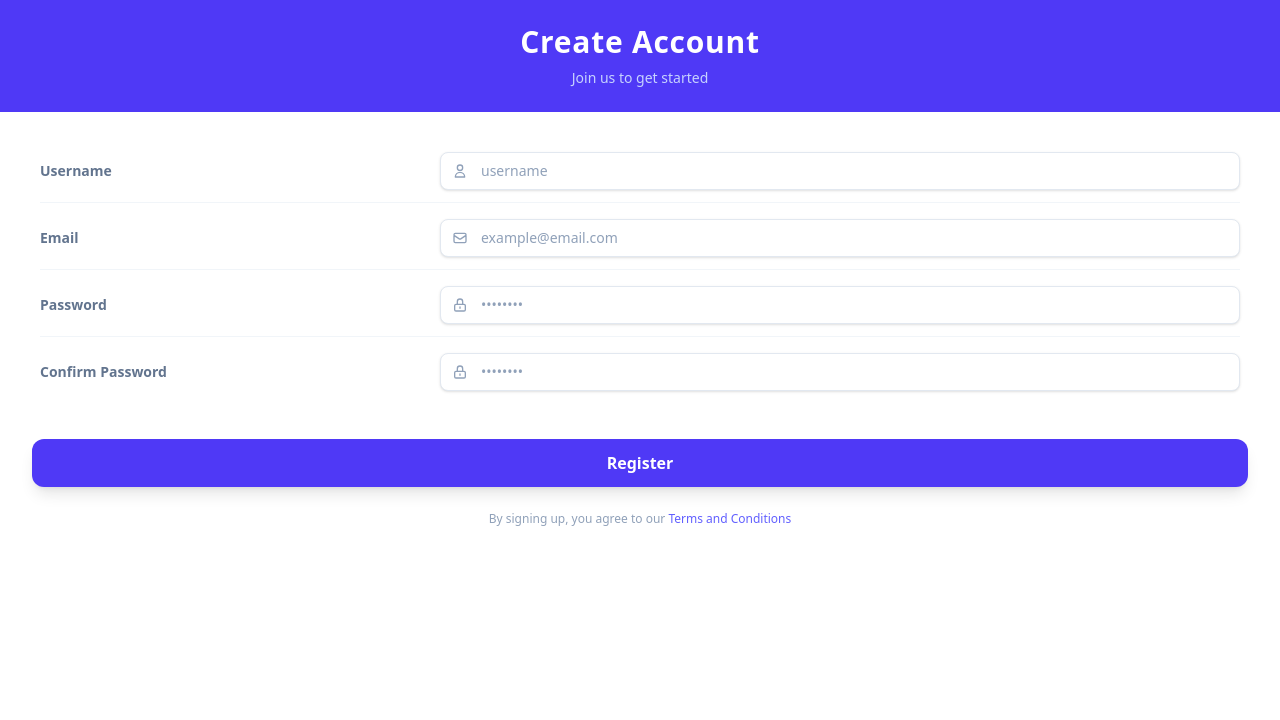
Test: RegisterPage Component › should show error if passwords do not match
This screenshot has width=1280, height=720.
In the field labelled "Username": (840, 171) [440,152,1240,190], type "usuario_test"
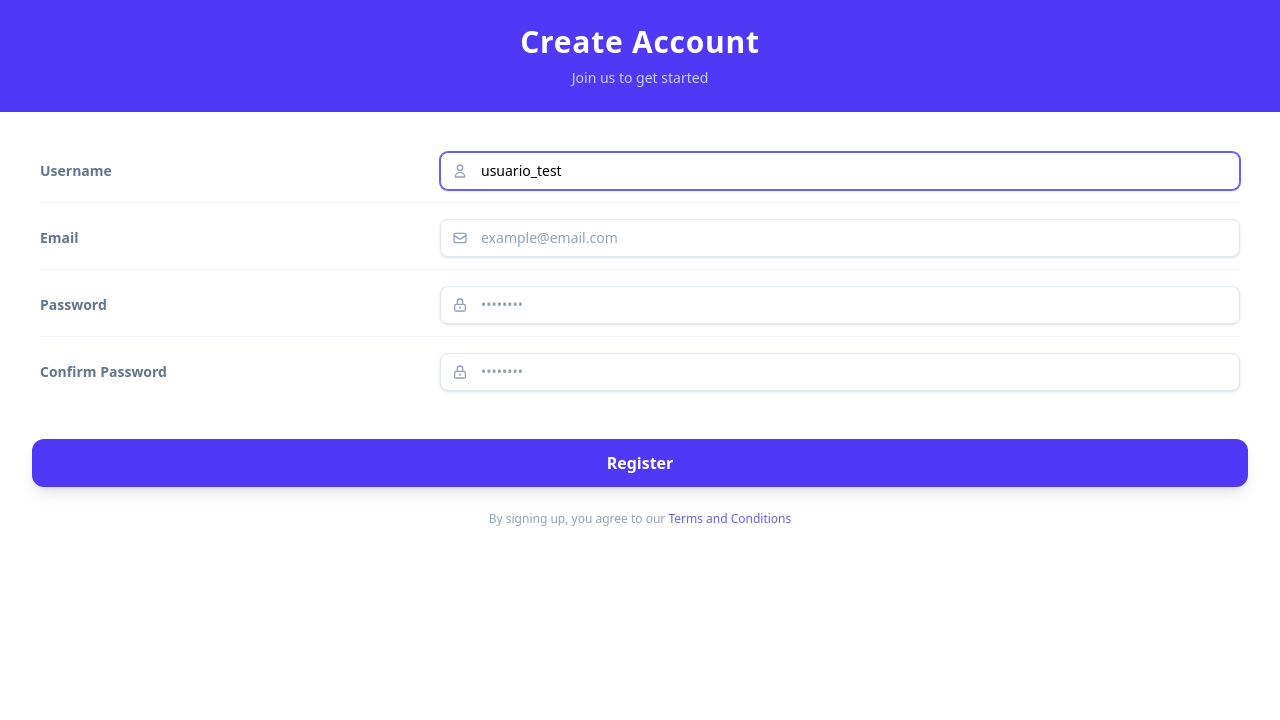
In the field labelled "Email": (840, 238) [440,219,1240,257], type "test@correo.com"
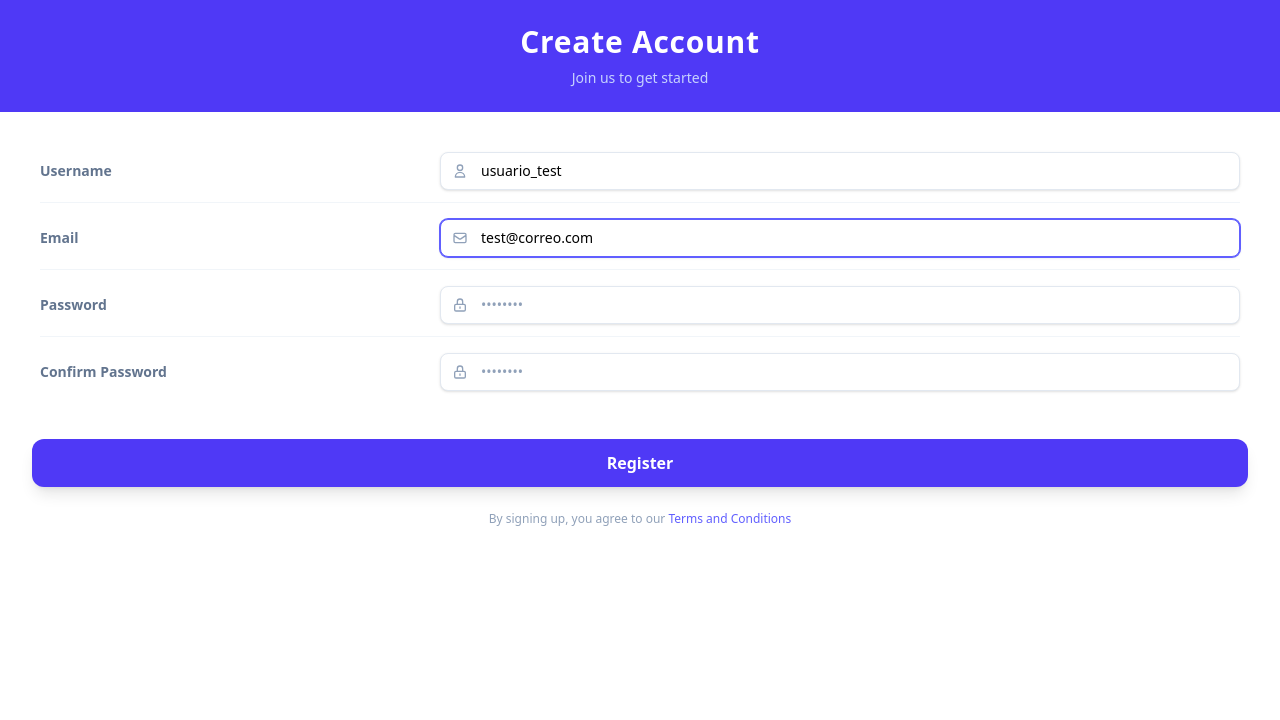
In the password field labelled "Password": (840, 305) [440,286,1240,324], type "PASSWORD_TEST"
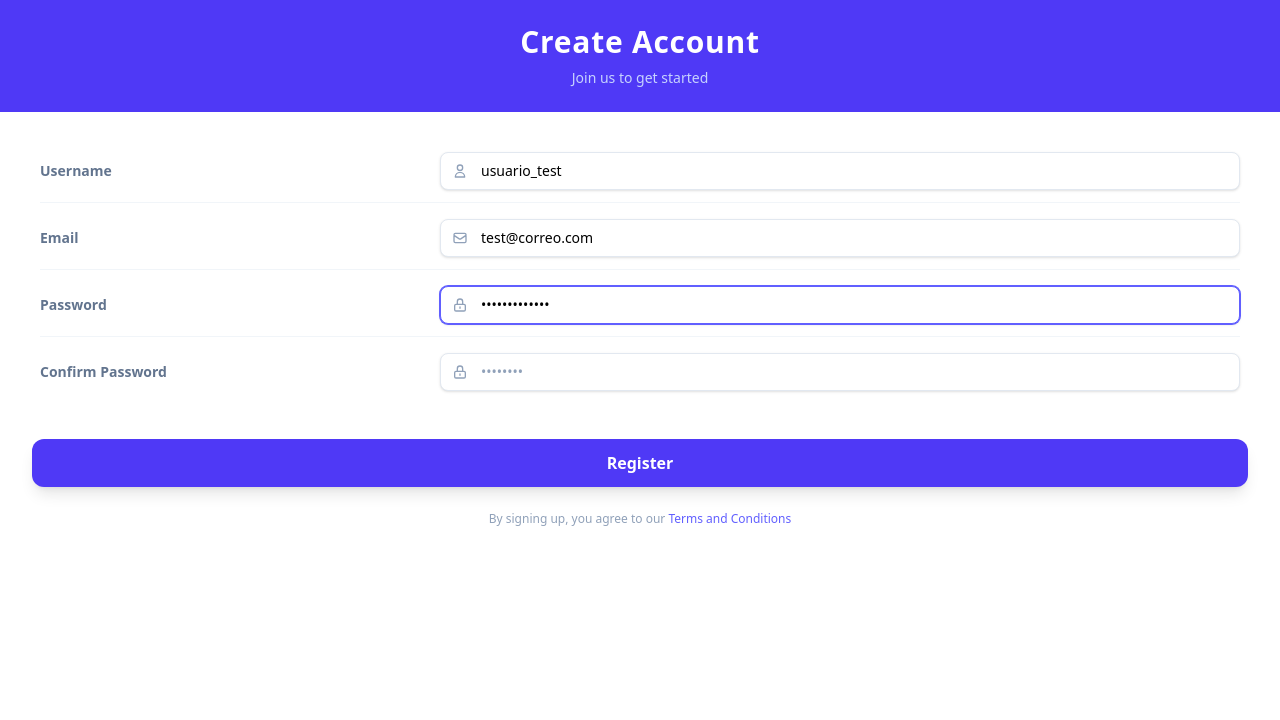
In the password field labelled "Confirm Password": (840, 372) [440,353,1240,391], type "PASSWORD_DIFERENTE"
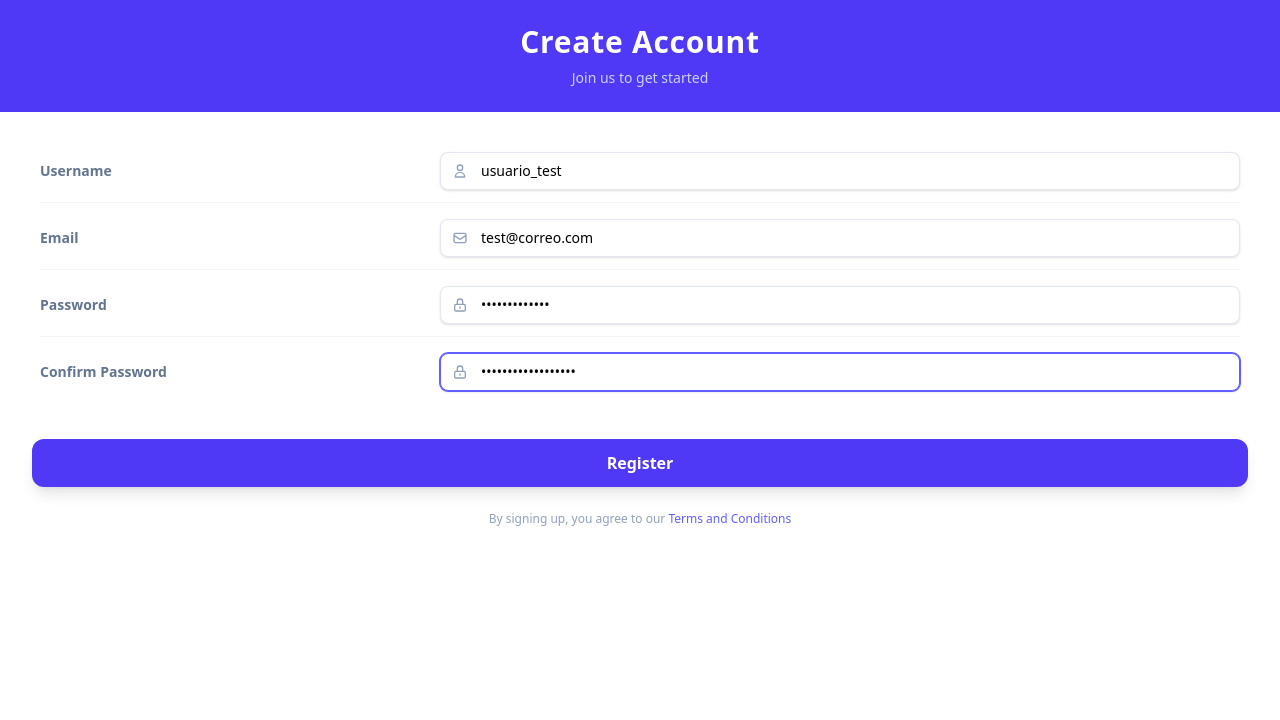
Click the button "Register": (640, 463) [32,439,1248,487]
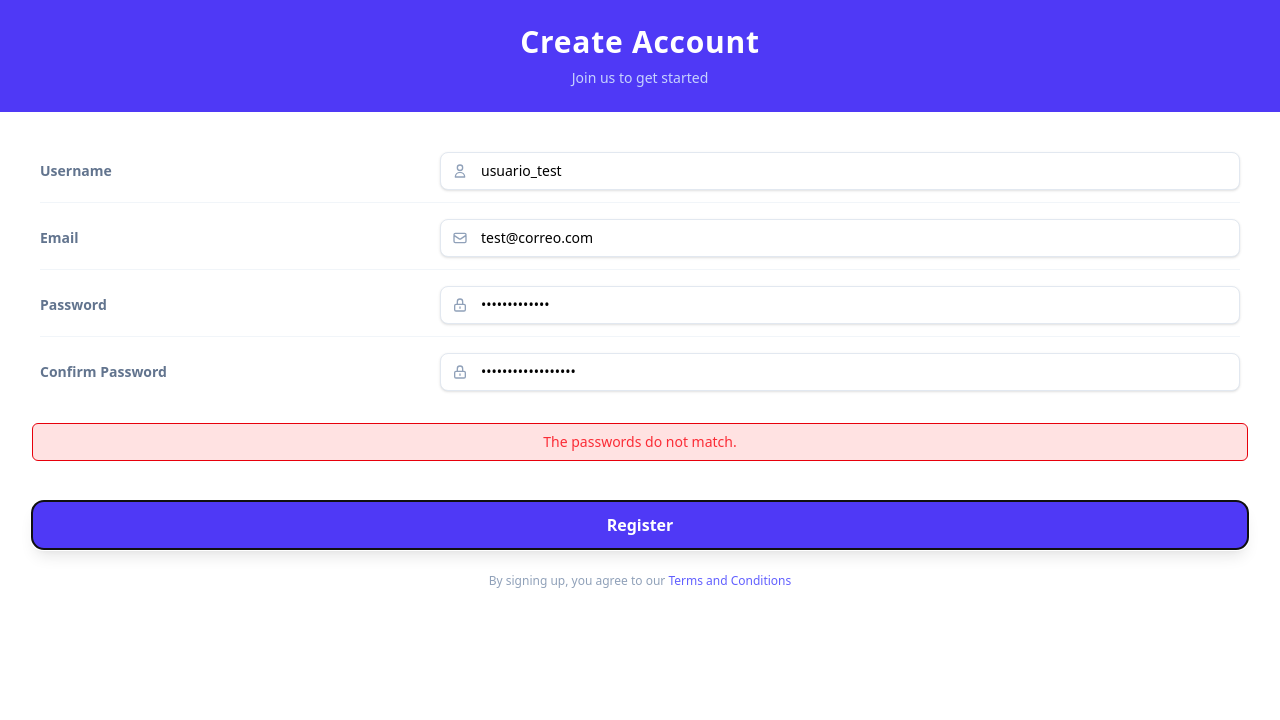
Result: the text "The passwords do not match." is shown at [32,423,1248,461]
